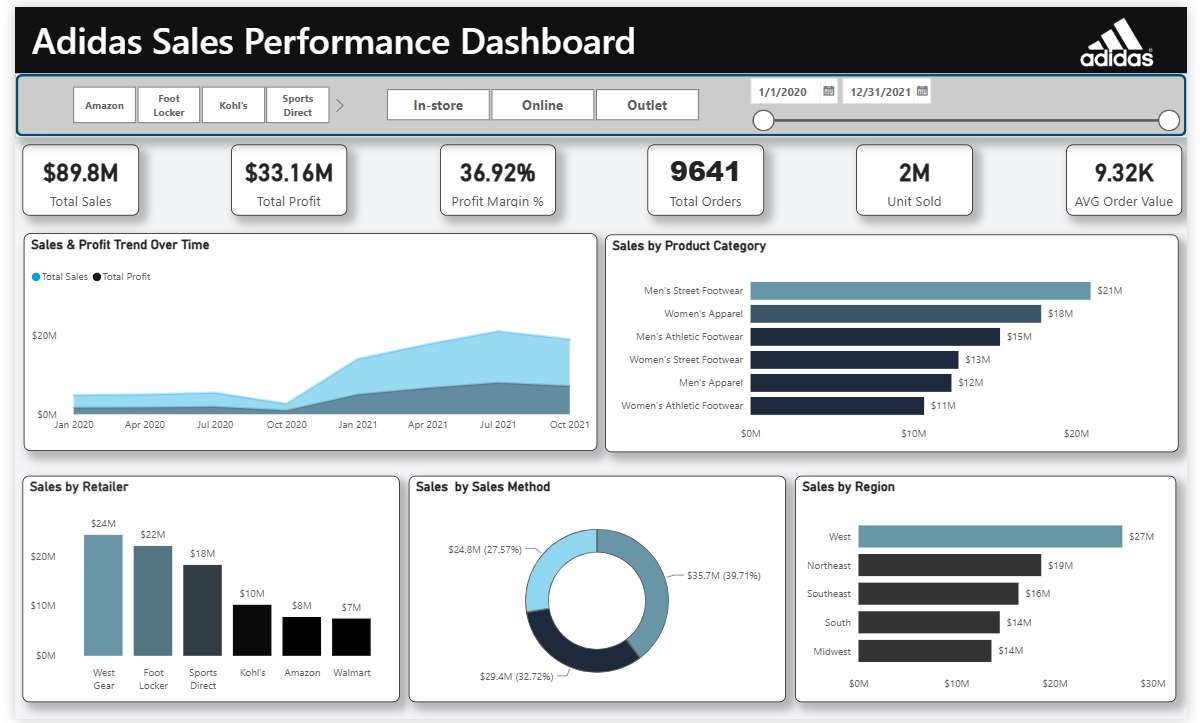

What the dashboard file says about the page in this screenshot:
{"tool":"powerbi","page":{"name":"Page 1","canvas":[1400,850],"ordinal":0},"visuals":[{"type":"card","fields":{"Values":["Dax Measures.Total Sales"]},"box":[9.1,164.7,139.5,84.7],"z":0},{"type":"card","fields":{"Values":["Dax Measures.Total Orders"]},"box":[755.5,164.7,139.5,84.7],"z":1000},{"type":"card","fields":{"Values":["Dax Measures.Total Profit"]},"box":[258.8,164.7,138.2,84.7],"z":2000},{"type":"card","fields":{"Values":["Dax Measures.Unit Sold"]},"box":[1005.2,164.7,139.5,84.7],"z":3000},{"type":"card","fields":{"Values":["Dax Measures.AVG Order Value"]},"box":[1254.9,164.7,138.2,84.7],"z":4000},{"type":"card","fields":{"Values":["Dax Measures.Profit Margin %"]},"box":[507.2,164.7,138.2,84.7],"z":5000},{"type":"shape","box":[0,0,1400,84.4],"z":6000},{"type":"lineChart","title":"Sales & Profit Trend Over Time","fields":{"Category":["Adidas Sales.Invoice Date.Variation.Date Hierarchy.Year","Adidas Sales.Invoice Date.Variation.Date Hierarchy.Quarter","Adidas Sales.Invoice Date.Variation.Date Hierarchy.Month","Adidas Sales.Invoice Date.Variation.Date Hierarchy.Day"],"Y":["Dax Measures.Total Sales","Dax Measures.Total Profit"]},"box":[10.3,270.6,685,260],"z":7000},{"type":"clusteredBarChart","title":"Sales by Product Category ","fields":{"Category":["Adidas Sales.Product"],"Y":["Dax Measures.Total Sales"]},"box":[704.5,271.6,685.1,260],"z":8000},{"type":"clusteredColumnChart","title":"Sales by Retailer","fields":{"Category":["Adidas Sales.Retailer"],"Y":["Dax Measures.Total Sales"]},"box":[8.6,559.1,450,270],"z":9000},{"type":"donutChart","title":"Sales  by Sales Method","fields":{"Category":["Adidas Sales.Sales Method"],"Y":["Dax Measures.Total Sales"]},"box":[470.3,559.1,450,270],"z":10000},{"type":"clusteredBarChart","title":" Sales by Region","fields":{"Category":["Adidas Sales.Region"],"Y":["Dax Measures.Total Sales"]},"box":[931.9,559.1,455,270],"z":11000},{"type":"shape","box":[0,79.2,1400,76.6],"z":12000},{"type":"slicer","fields":{"Values":["Adidas Sales.Retailer"]},"box":[43,88.7,355.9,57.4],"z":13000},{"type":"slicer","fields":{"Values":["Adidas Sales.Sales Method"]},"box":[417.2,91.3,422.4,50.8],"z":14000},{"type":"slicer","fields":{"Values":["Adidas Sales.Invoice Date"]},"box":[866.2,75.3,533.8,76.6],"z":15000},{"type":"image","box":[1266.2,0,100,83.8],"z":16000},{"type":"textbox","box":[14.7,4.4,810.3,75],"z":17000}]}

Visuals, with their boxes in screenshot pixels (x1, y1, x2, y2), scaled from the page's 1400x850 canvas onto the 1200x723 screenshot:
card - Dax Measures.Total Sales: (left=8, top=140, right=127, bottom=212)
card - Dax Measures.Total Orders: (left=648, top=140, right=767, bottom=212)
card - Dax Measures.Total Profit: (left=222, top=140, right=340, bottom=212)
card - Dax Measures.Unit Sold: (left=862, top=140, right=981, bottom=212)
card - Dax Measures.AVG Order Value: (left=1076, top=140, right=1194, bottom=212)
card - Dax Measures.Profit Margin %: (left=435, top=140, right=553, bottom=212)
shape: (left=0, top=0, right=1199, bottom=72)
"Sales & Profit Trend Over Time" lineChart: (left=9, top=230, right=596, bottom=451)
"Sales by Product Category " clusteredBarChart: (left=604, top=231, right=1191, bottom=452)
"Sales by Retailer" clusteredColumnChart: (left=7, top=476, right=393, bottom=705)
"Sales  by Sales Method" donutChart: (left=403, top=476, right=789, bottom=705)
" Sales by Region" clusteredBarChart: (left=799, top=476, right=1189, bottom=705)
shape: (left=0, top=67, right=1199, bottom=133)
slicer - Adidas Sales.Retailer: (left=37, top=75, right=342, bottom=124)
slicer - Adidas Sales.Sales Method: (left=358, top=78, right=720, bottom=121)
slicer - Adidas Sales.Invoice Date: (left=742, top=64, right=1199, bottom=129)
image: (left=1085, top=0, right=1171, bottom=71)
textbox: (left=13, top=4, right=707, bottom=68)
